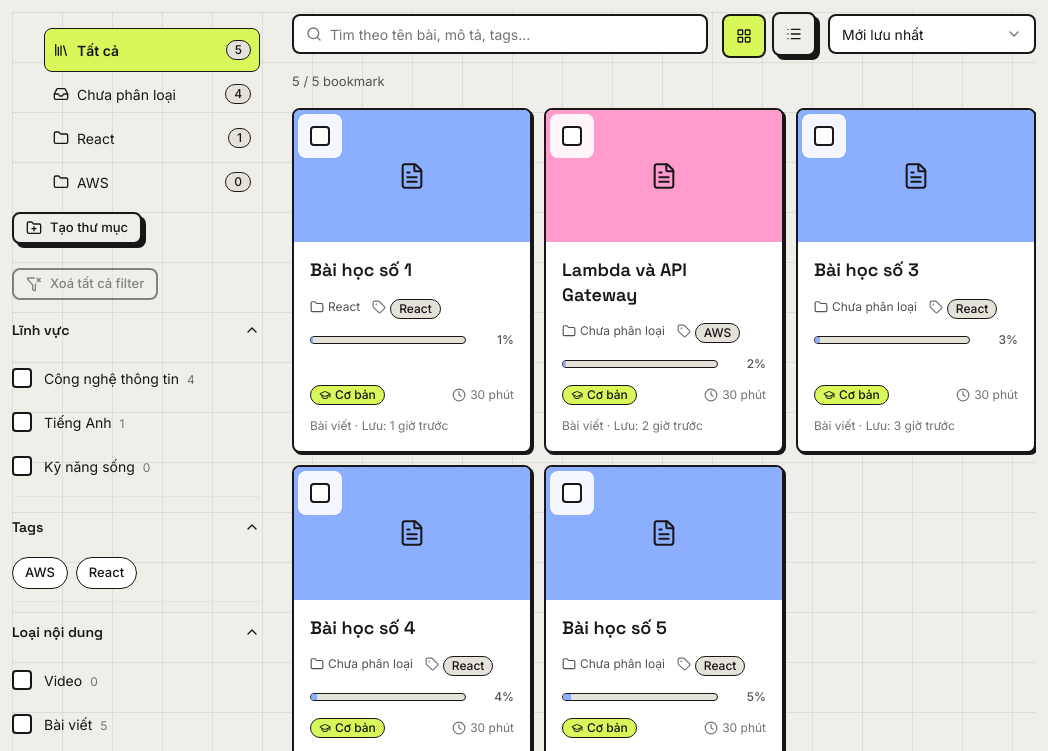
BookmarkManager › swaps the toolbar for the bulk bar while bookmarks are ticked
The width and height of the screenshot is (1048, 751).
Click the checkbox named "Chọn Bài học số 1".
click(320, 136)  # box 298,114 -> 342,158
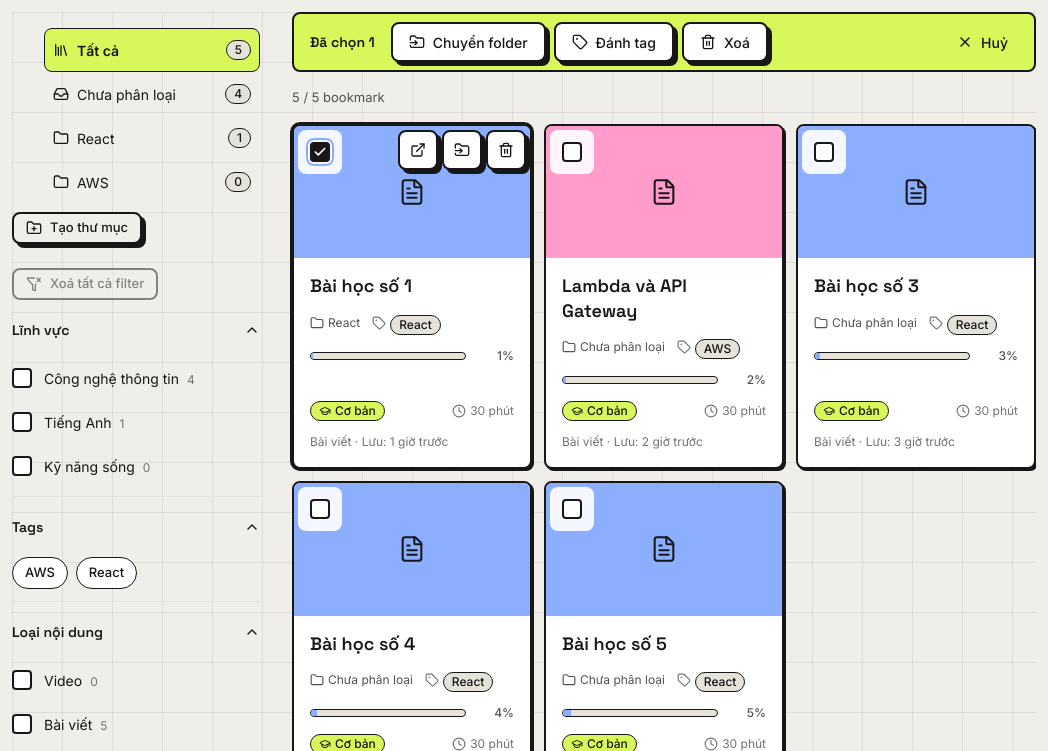
Click the checkbox named "Chọn Lambda và API Gateway".
click(572, 152)  # box 550,130 -> 594,174
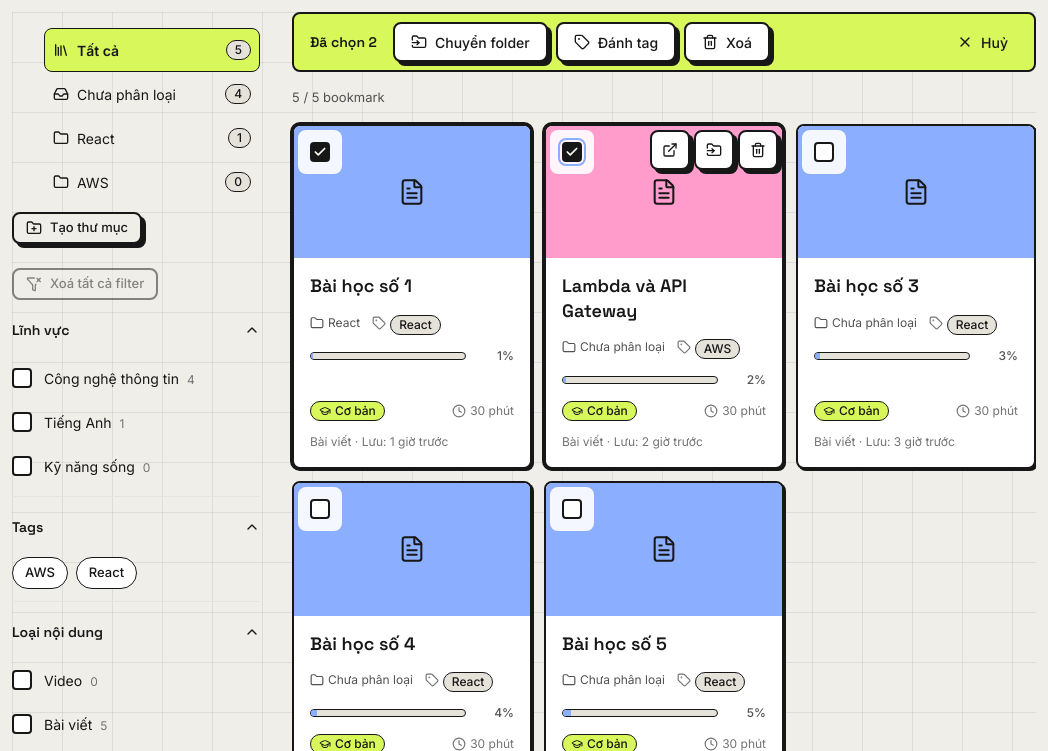
Expected: the text "Đã chọn 2" is shown, 310,32 -> 377,50
Click the button "Huỷ".
click(983, 42)  # box 939,22 -> 1026,62
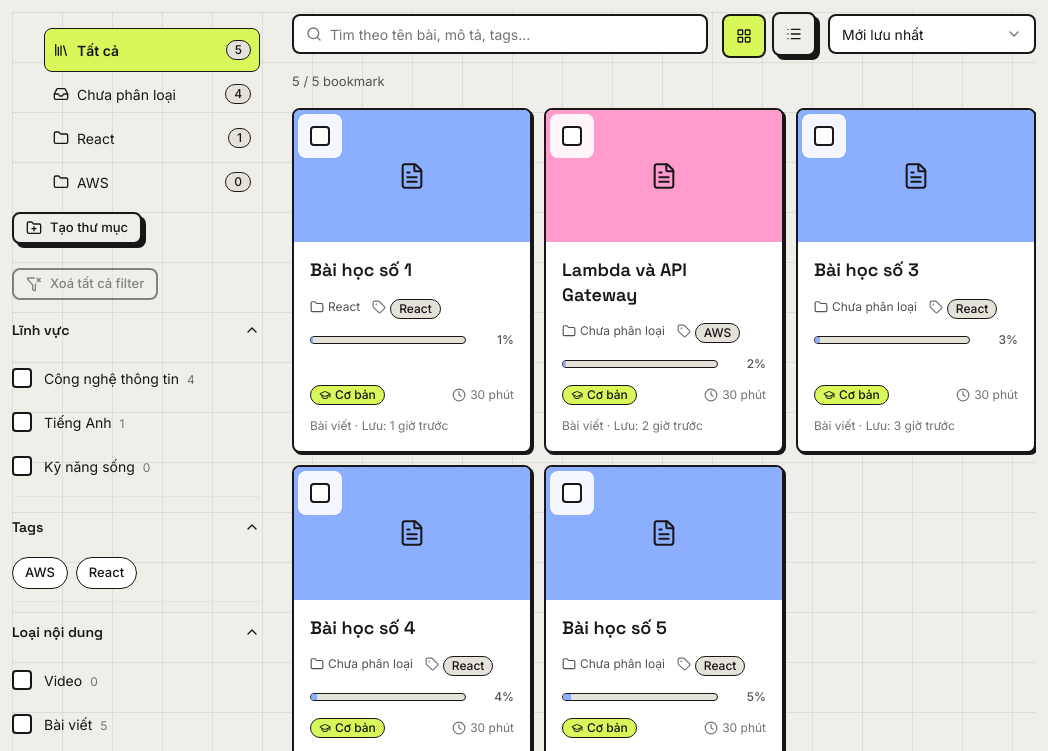
Expected: the search field is shown, 330,16 -> 694,52
